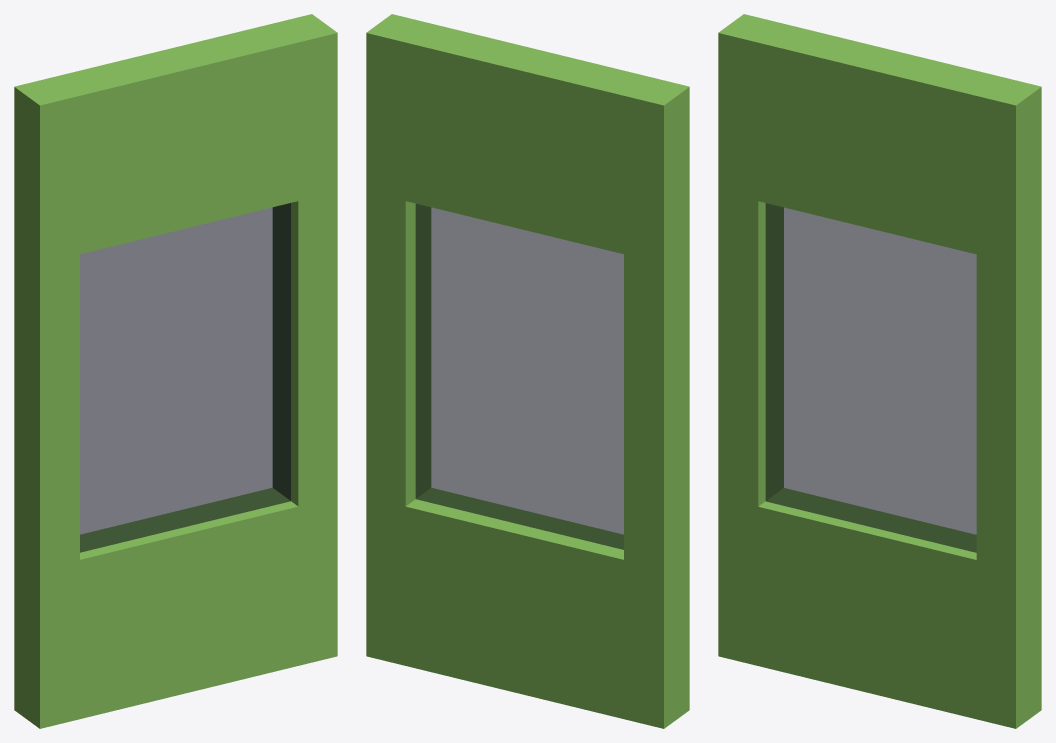
Rendered from LimeWindow.glb.
3 renders of one model, left to right at view 1: azimuth 30°, elevation 25°; view 2: azimuth 150°, elevation 25°; view 3: azimuth 330°, elevation 25°, orthographic.
Parts seen in each view (by area): view 1: wall_lime_window; view 2: wall_lime_window; view 3: wall_lime_window.
Boxes of the visible parts, x1,y1,x2,y2 form: wall_lime_window: (14,14,337,728); wall_lime_window: (366,14,689,728); wall_lime_window: (718,14,1041,728).
Size of what is drawn, in the model's own units: 2 by 4 by 0.3.
Materials: 2 (2 with a texture image).
